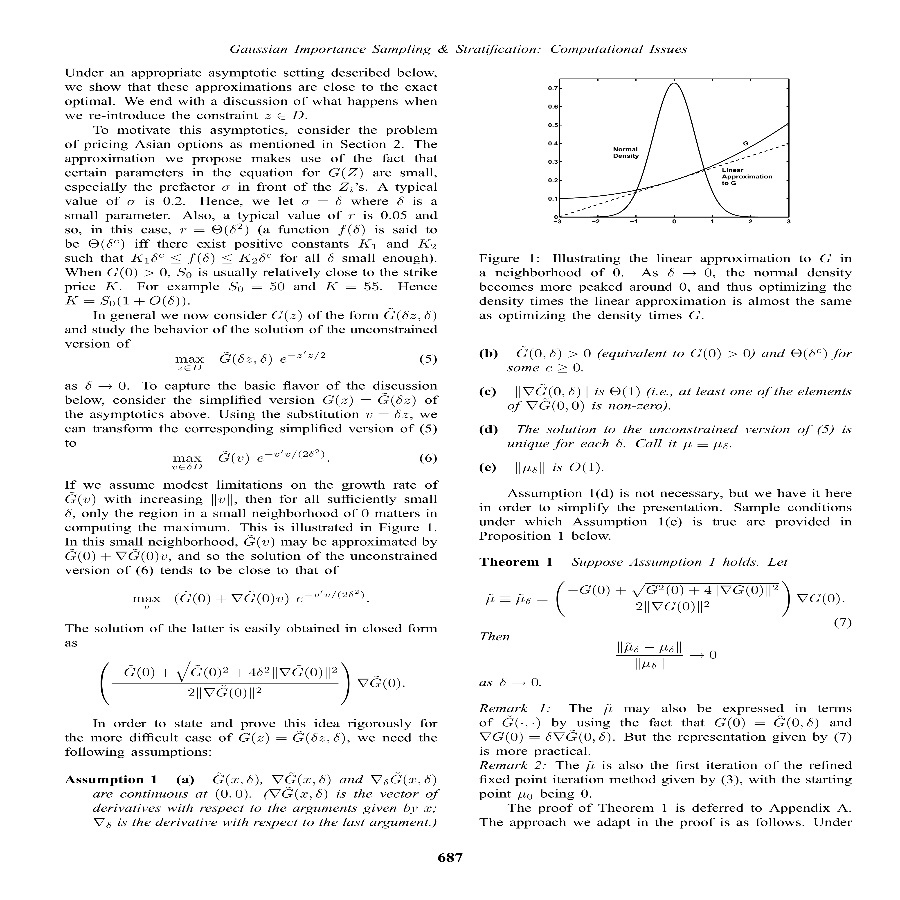eq: (96, 652, 406, 711), (482, 577, 847, 618), (131, 585, 378, 611), (171, 344, 327, 374), (617, 636, 719, 673), (169, 447, 327, 469)
